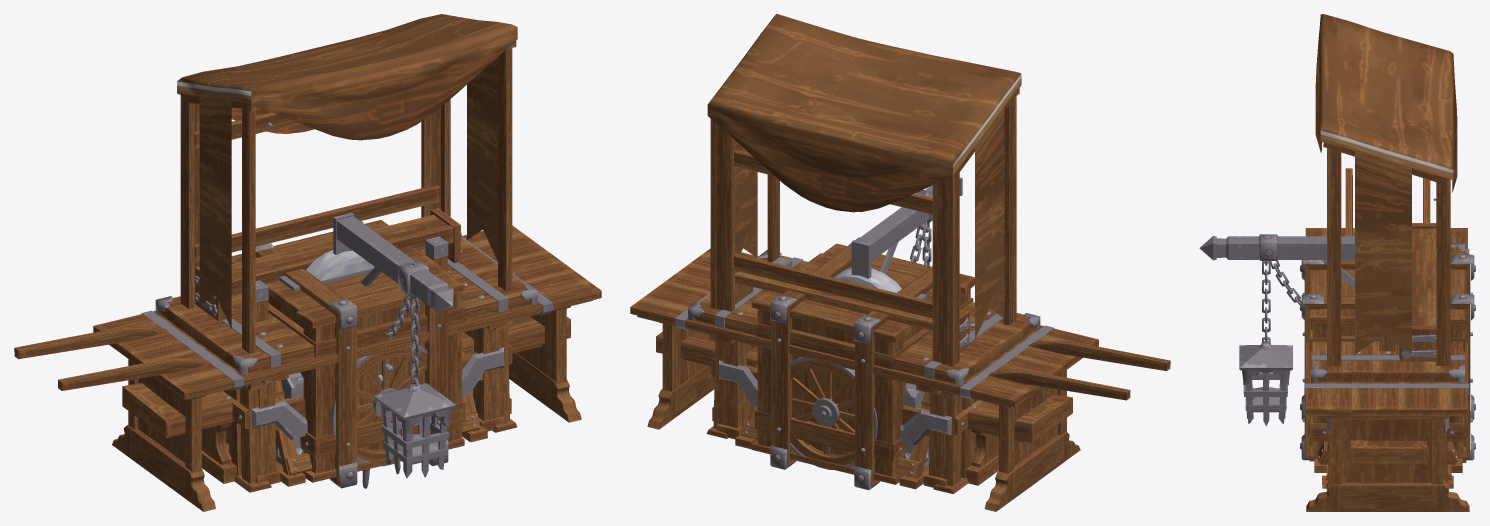
File: GIRIA_DAIKTAI.glb
3 views of the same model, side by side, from view 1: azimuth 30°, elevation 25°; view 2: azimuth 150°, elevation 25°; view 3: azimuth 270°, elevation 25° (orthographic). The views are drawn at different scales.
Parts seen in each view (by area): view 1: Stall_Cart_Empty, Stall_Empty, Crate_Wooden, Table_Large, Workbench, Lantern_Wall, Bench, WeaponStand, Whetstone, Chest_Wood; view 2: Stall_Empty, Stall_Cart_Empty, Crate_Wooden, Table_Large, Workbench, Bench, Lantern_Wall, WeaponStand, Whetstone, Chest_Wood; view 3: Stall_Empty, Table_Large, Stall_Cart_Empty, Crate_Wooden, Lantern_Wall, Workbench, Bench, WeaponStand.
Part boxes in pixels (box(x1,y1,x2,y2)): Stall_Cart_Empty: box(14, 22, 517, 475); Stall_Empty: box(177, 14, 517, 492); Crate_Wooden: box(231, 220, 465, 488); Table_Large: box(93, 225, 601, 511); Workbench: box(155, 238, 537, 484); Lantern_Wall: box(333, 212, 456, 478); Bench: box(122, 316, 570, 483); WeaponStand: box(255, 236, 487, 486); Whetstone: box(306, 250, 393, 372); Chest_Wood: box(276, 372, 303, 464); Stall_Empty: box(706, 30, 1020, 493); Stall_Cart_Empty: box(708, 14, 1170, 478); Crate_Wooden: box(751, 237, 974, 490); Table_Large: box(630, 248, 1098, 511); Workbench: box(688, 250, 1040, 487); Bench: box(656, 331, 1072, 485); Lantern_Wall: box(851, 177, 962, 278); WeaponStand: box(735, 257, 930, 489); Whetstone: box(834, 268, 901, 292); Chest_Wood: box(903, 383, 929, 468); Stall_Empty: box(1320, 21, 1457, 488); Table_Large: box(1304, 228, 1469, 511); Stall_Cart_Empty: box(1310, 14, 1465, 416); Crate_Wooden: box(1300, 252, 1475, 462); Lantern_Wall: box(1199, 234, 1354, 426); Workbench: box(1311, 243, 1464, 479); Bench: box(1350, 440, 1427, 464); WeaponStand: box(1314, 335, 1462, 472).
Size of the model in its own units: 3.53 by 2.91 by 1.83.
Materials: 3 (3 with a texture image).
